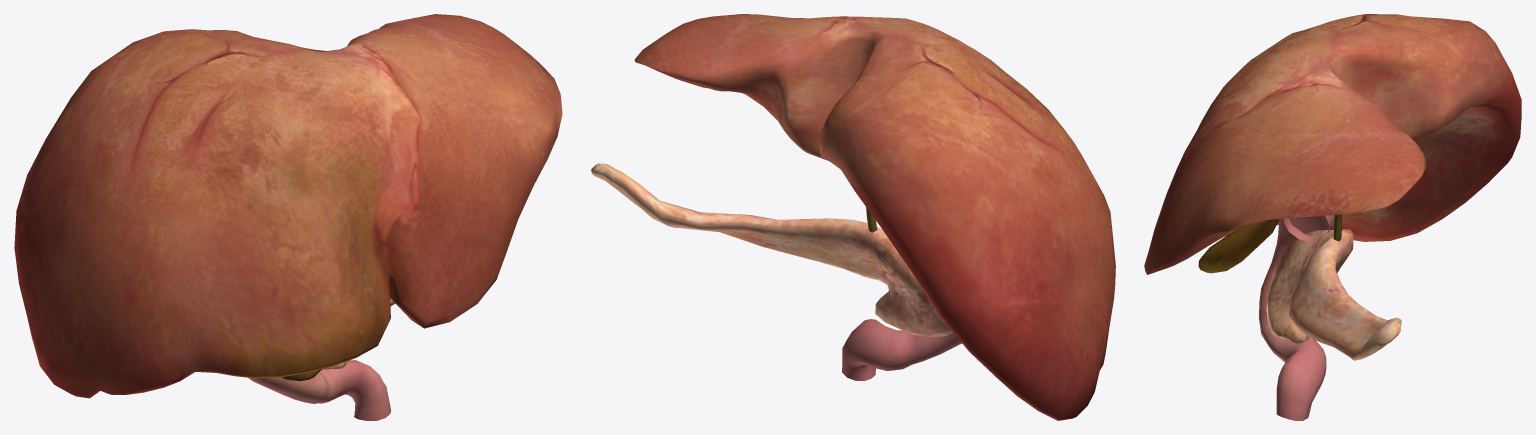
The model's file is 1.4 Accessory ogran.glb.
3 renders of one model, left to right at view 1: azimuth 30°, elevation 25°; view 2: azimuth 150°, elevation 25°; view 3: azimuth 270°, elevation 25°, orthographic. The views are drawn at different scales.
Visible parts, largest first — view 1: Liver, Stomach_Duodenum; view 2: Liver, Pancreas, Stomach_Duodenum; view 3: Liver, Pancreas, Stomach_Duodenum, Gallbladder.
Boxes of the visible parts, bbox=[...] form: Liver: bbox=[14, 14, 562, 398]; Stomach_Duodenum: bbox=[248, 360, 390, 420]; Liver: bbox=[634, 14, 1115, 420]; Pancreas: bbox=[591, 163, 953, 337]; Stomach_Duodenum: bbox=[842, 319, 961, 380]; Liver: bbox=[1144, 14, 1521, 274]; Pancreas: bbox=[1266, 229, 1401, 360]; Stomach_Duodenum: bbox=[1258, 215, 1334, 420]; Gallbladder: bbox=[1198, 219, 1278, 273].
Bounding box in the file's own units: 0.1997 × 0.1427 × 0.1404.
3 materials, 3 textured.
